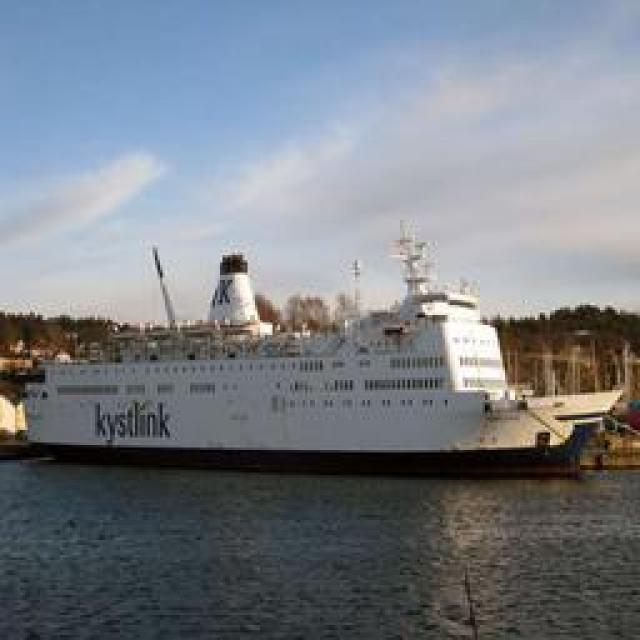ship2: (17, 219, 625, 479)
